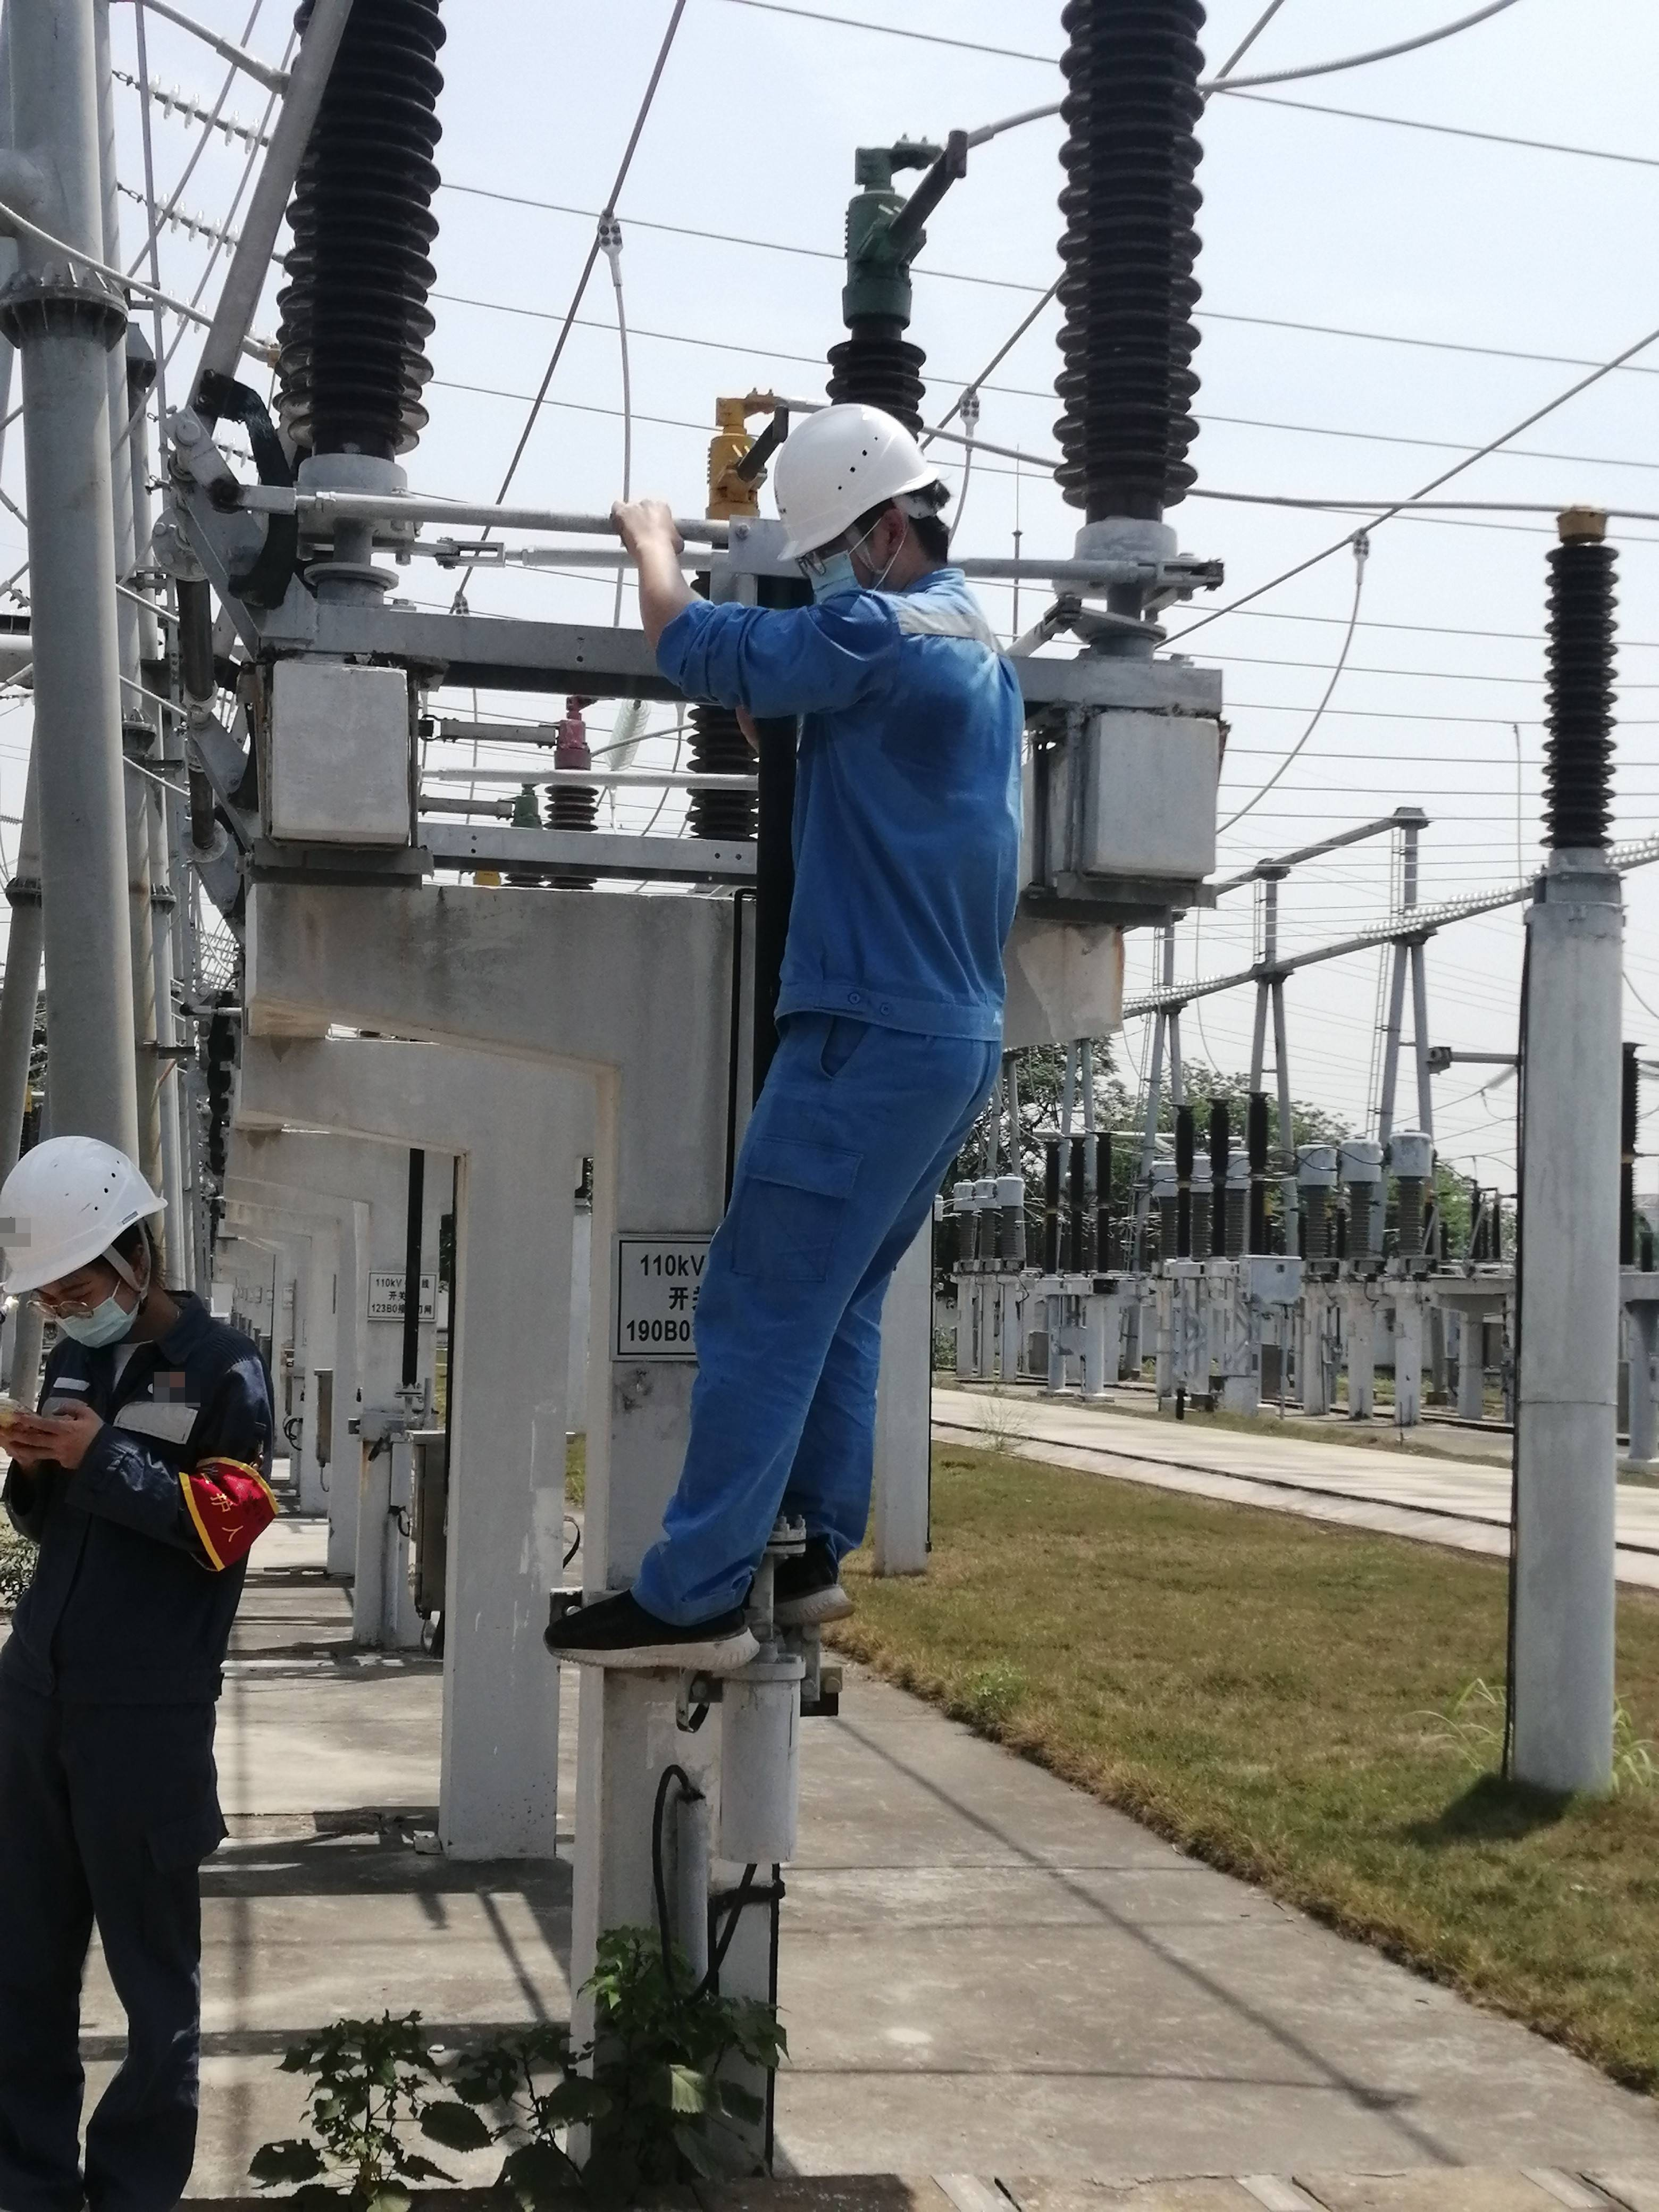downsuit: (633, 1043, 997, 1606), (2, 1749, 230, 2209)
upsuit: (655, 566, 1046, 1035), (3, 1299, 291, 1710)
wrongtop: (615, 512, 727, 683)
